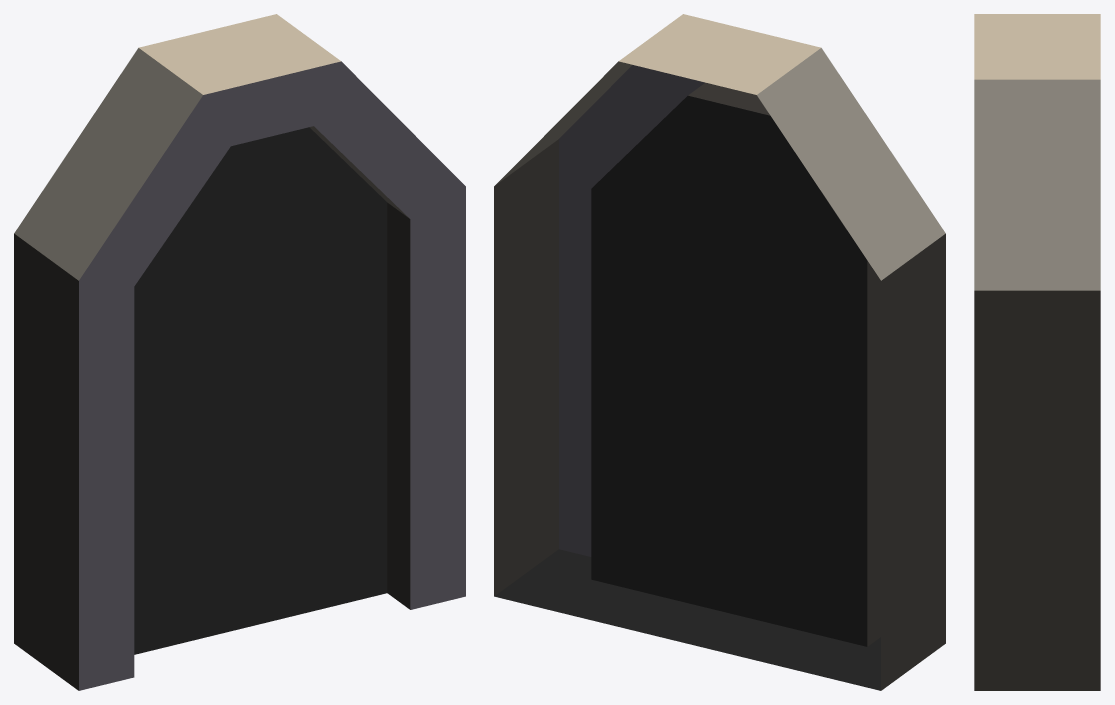
The model's file is TB_D_Bd_Arch_DoorFrame_C.FBX.
The picture shows the model from 3 angles, left to right: view 1: azimuth 30°, elevation 25°; view 2: azimuth 150°, elevation 25°; view 3: azimuth 270°, elevation 25°; orthographic projection. The views are drawn at different scales.
Parts seen in each view (by area): view 1: TB_D_Bd_Arch_DoorFrame_C; view 2: TB_D_Bd_Arch_DoorFrame_C; view 3: TB_D_Bd_Arch_DoorFrame_C.
Boxes of the visible parts, left/top/right/bottom form: TB_D_Bd_Arch_DoorFrame_C: left=14, top=14, right=465, bottom=690; TB_D_Bd_Arch_DoorFrame_C: left=494, top=14, right=945, bottom=690; TB_D_Bd_Arch_DoorFrame_C: left=974, top=14, right=1100, bottom=690.
Bounding box in the file's own units: 1.4 × 1.95 × 0.4047.
